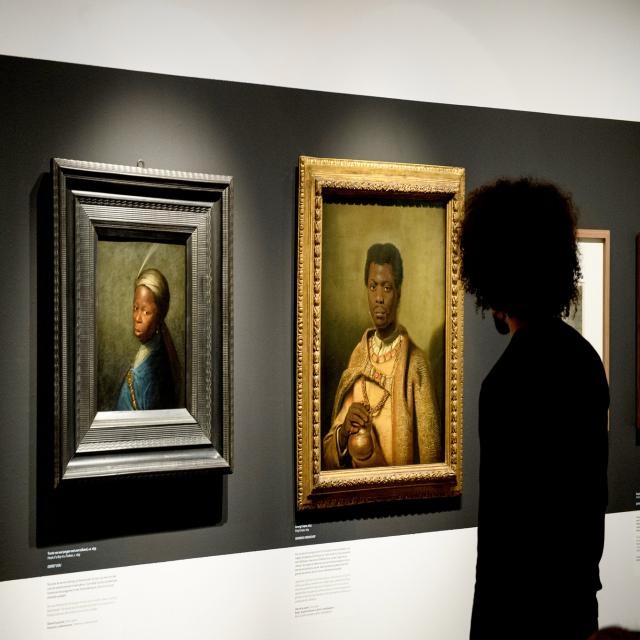Tablo: (320, 187, 452, 474), (95, 231, 189, 413)
